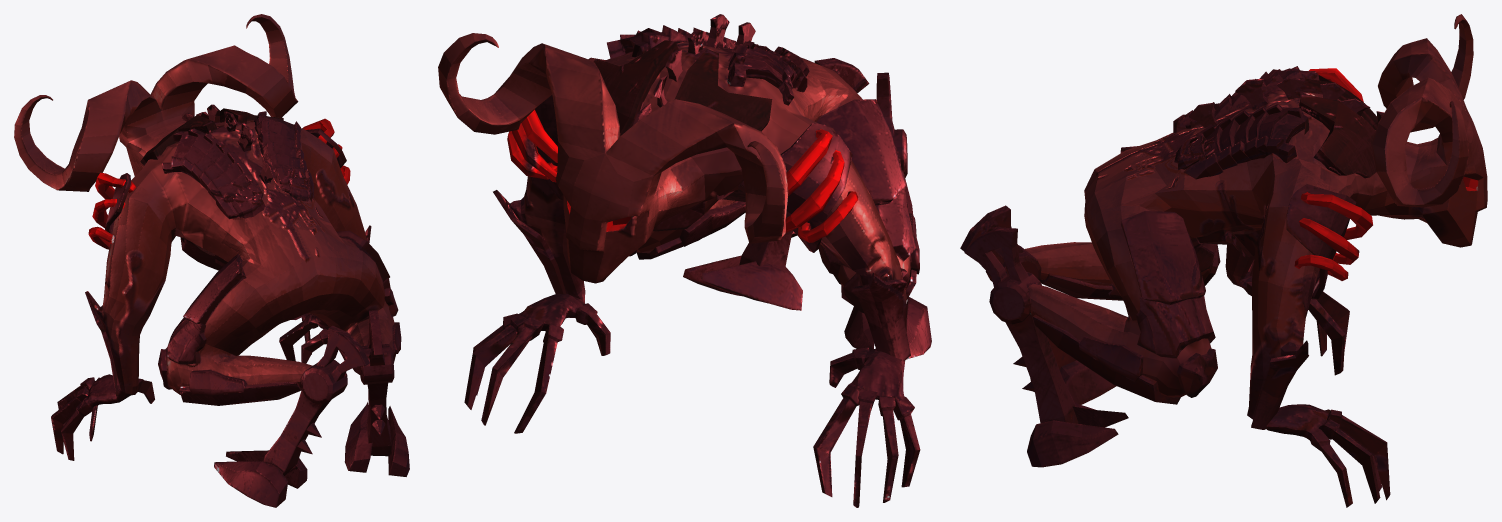
3 renders of one model, left to right at view 1: azimuth 30°, elevation 25°; view 2: azimuth 150°, elevation 25°; view 3: azimuth 270°, elevation 25°, orthographic. The views are drawn at different scales.
Parts seen in each view (by area): view 1: Demon_LOW_Plane.002; view 2: Demon_LOW_Plane.002; view 3: Demon_LOW_Plane.002.
Boxes of the visible parts, x1,y1,x2,y2 form: Demon_LOW_Plane.002: [14, 14, 409, 507]; Demon_LOW_Plane.002: [438, 14, 931, 507]; Demon_LOW_Plane.002: [960, 14, 1487, 507].
Size of the model in its own units: 3.66 by 3.74 by 4.48.
